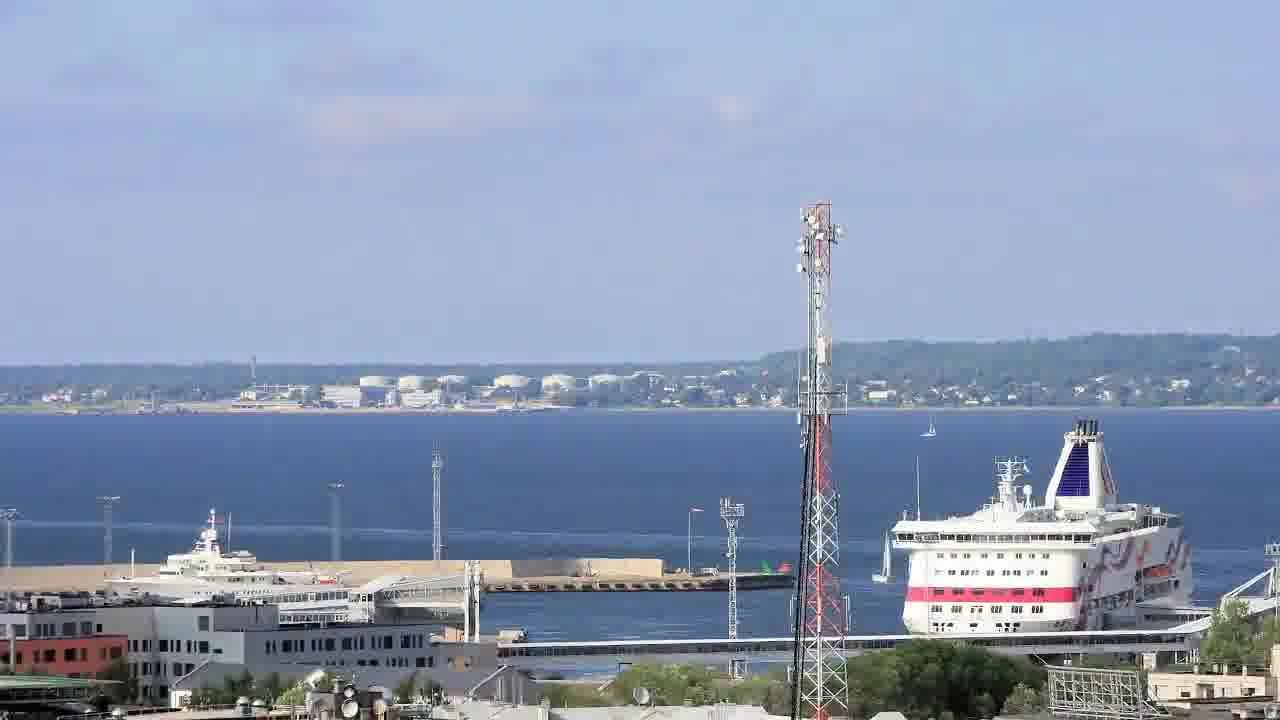type-2: (903, 404, 948, 450)
type-3: (868, 415, 1225, 638), (84, 511, 353, 609)
